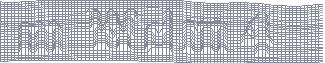4: (239, 11, 272, 58)
W: (85, 7, 139, 53)
d: (143, 8, 174, 55)
m: (182, 18, 228, 56), (17, 19, 64, 55)
